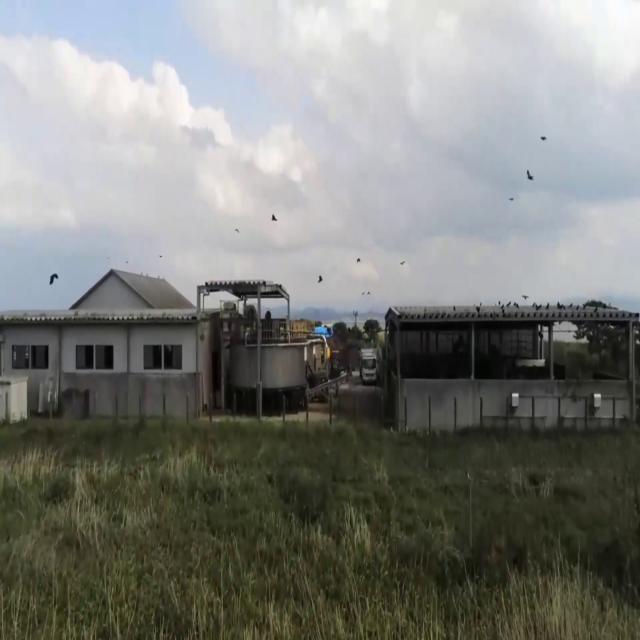bird: (48, 264, 58, 294), (540, 126, 546, 148)
